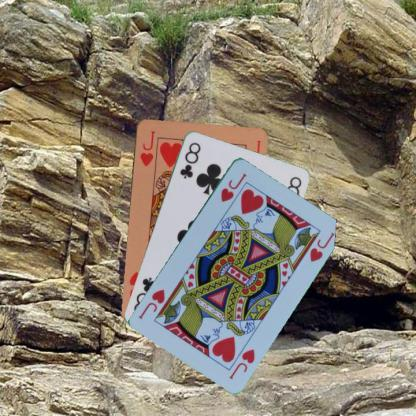8c: (176, 139, 202, 180)
Jh: (226, 346, 256, 380), (218, 170, 248, 203), (137, 128, 156, 168)
